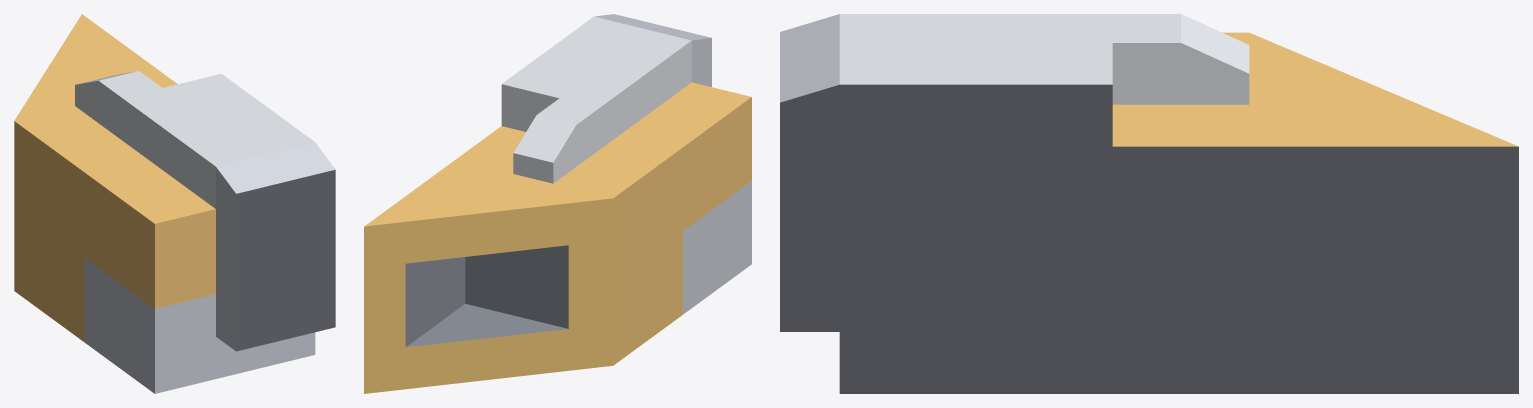
Rendered from wing_port.glb.
3 renders of one model, left to right at view 1: azimuth 30°, elevation 25°; view 2: azimuth 150°, elevation 25°; view 3: azimuth 270°, elevation 25°, orthographic. The views are drawn at different scales.
Bounding box in the file's own units: 0.79 × 1 × 2.16.
